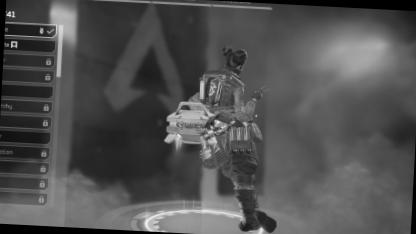Target: (197, 45, 264, 185)
